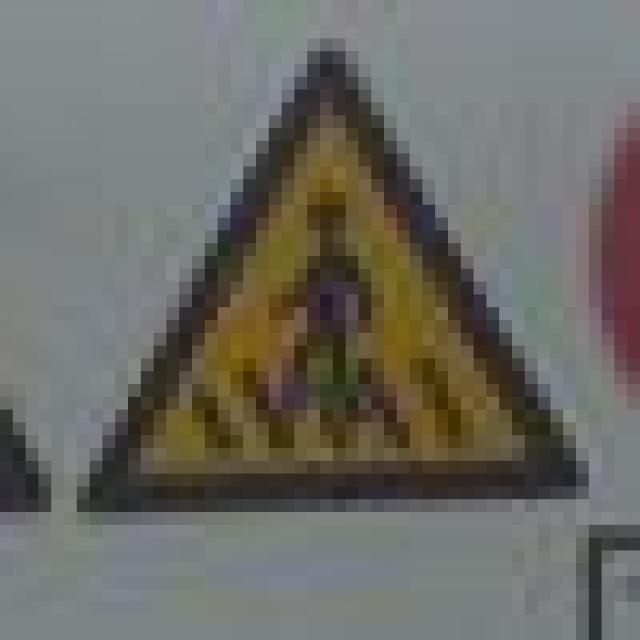pass_either_side: (64, 26, 576, 487)
